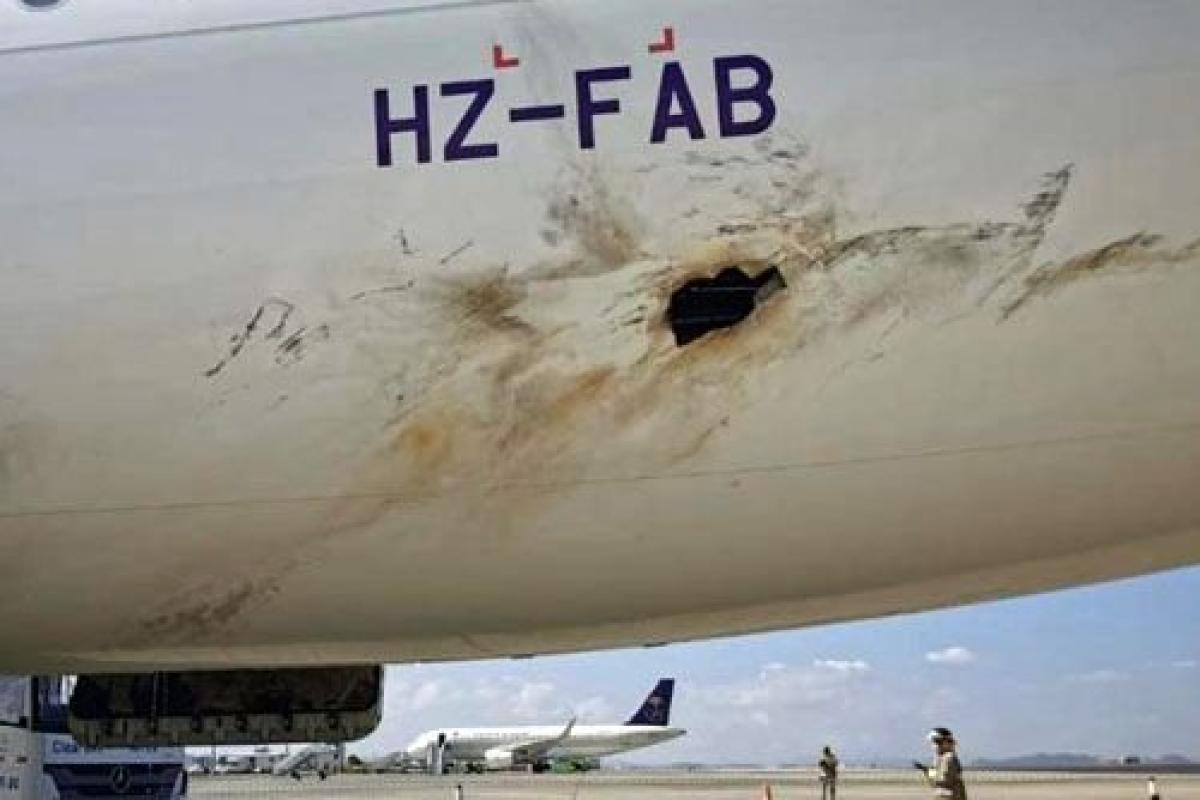Fuselage_damage: (189, 112, 1198, 532), (652, 259, 793, 355)
